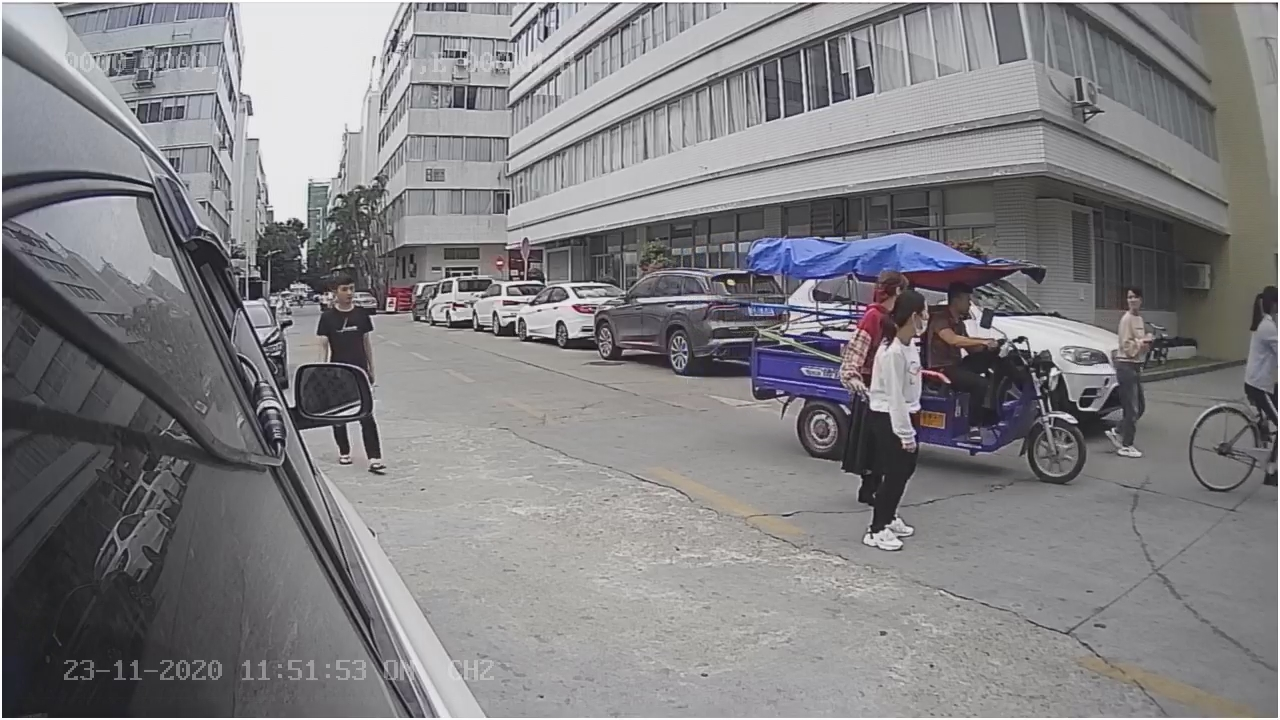person: (858, 292, 948, 554), (1103, 274, 1160, 458)
